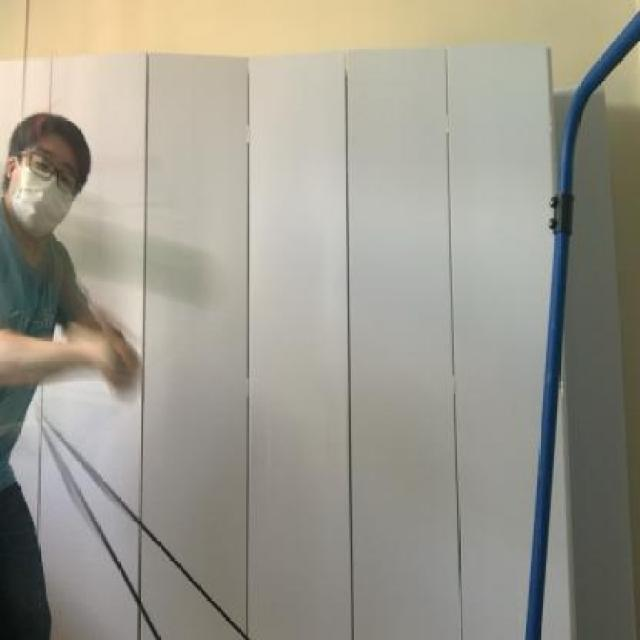baseball: (24, 195, 239, 312)
